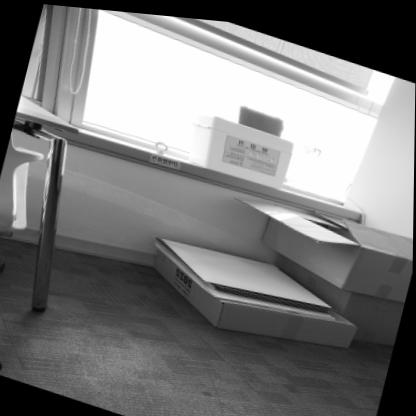DDL: (185, 103, 292, 184)
